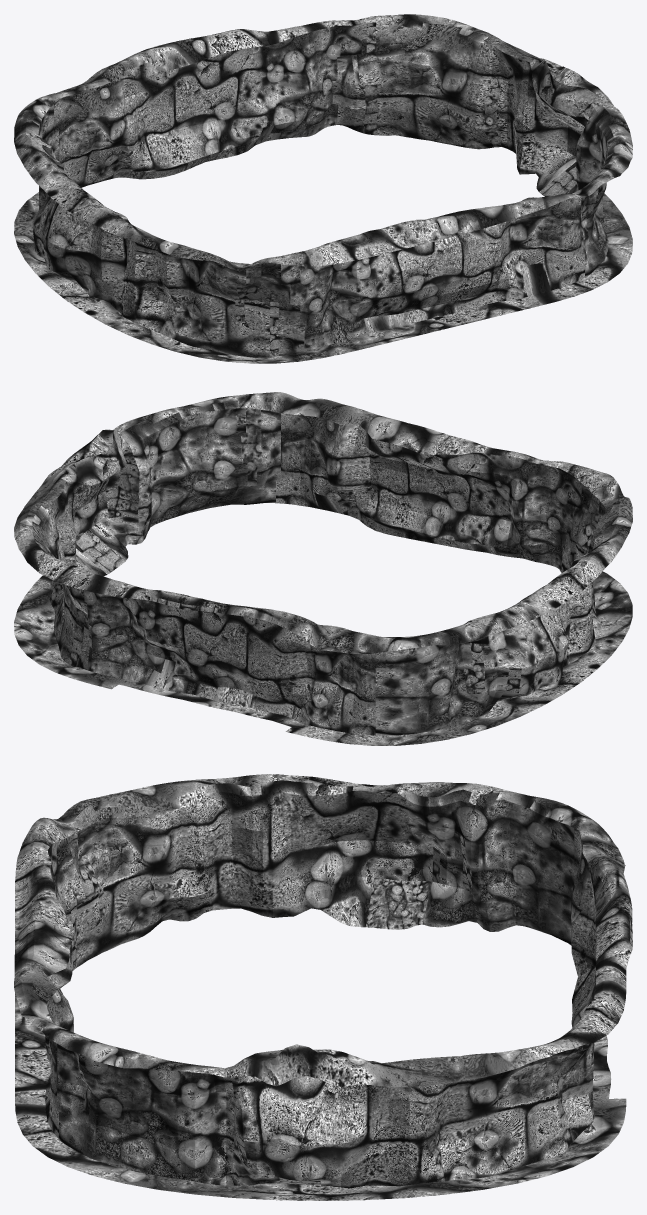
File: WaterFalls.fbx
3 views of the same model, one above another, from view 1: azimuth 30°, elevation 25°; view 2: azimuth 150°, elevation 25°; view 3: azimuth 270°, elevation 25° (orthographic). The views are drawn at different scales.
Parts seen in each view (by area): view 1: pCube3Shape; view 2: pCube3Shape; view 3: pCube3Shape.
Boxes of the visible parts, bbox=[...] form: pCube3Shape: bbox=[14, 14, 632, 363]; pCube3Shape: bbox=[14, 392, 632, 745]; pCube3Shape: bbox=[14, 774, 632, 1200].
Size of the model in its own units: 120 by 28.41 by 102.
Materials: 1 (1 with a texture image).
